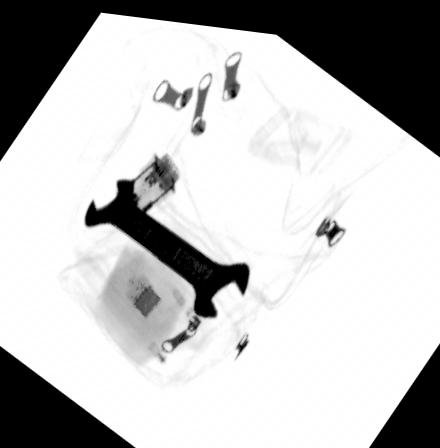Wrench: (79, 171, 252, 315)
